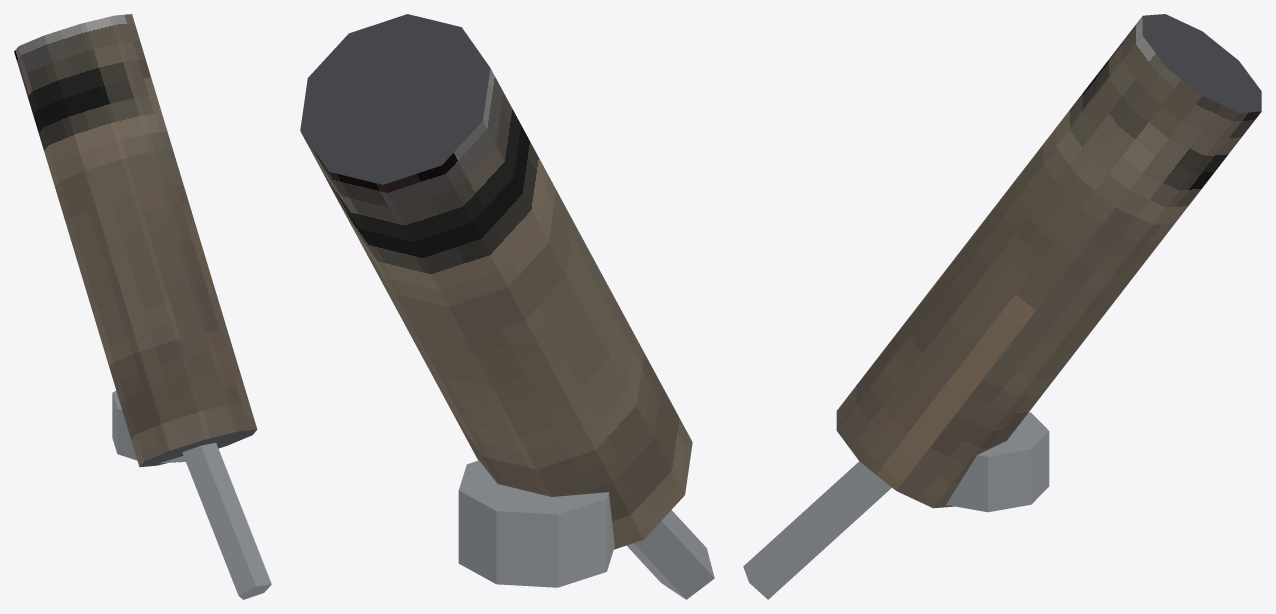
Rendered from Building_Turret_Mortar__Top.glb.
3 renders of one model, left to right at view 1: azimuth 30°, elevation 25°; view 2: azimuth 150°, elevation 25°; view 3: azimuth 270°, elevation 25°, orthographic. The views are drawn at different scales.
Visible parts, largest first — view 1: Turret_Mortar__Top; view 2: Turret_Mortar__Top; view 3: Turret_Mortar__Top.
Part boxes in pixels (x1,y1,x2,y2): Turret_Mortar__Top: (14,14,271,599); Turret_Mortar__Top: (300,14,714,599); Turret_Mortar__Top: (743,14,1261,599).
Bounding box in the file's own units: 0.2 × 0.8248 × 0.678.
1 material, 1 textured.
